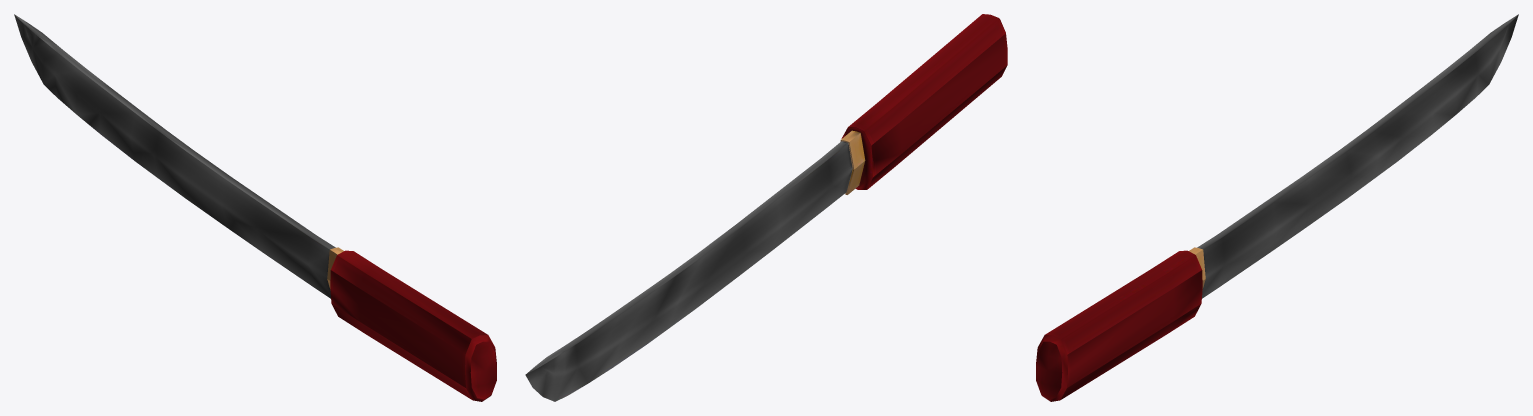
The model's file is Tanto.gltf.
The picture shows the model from 3 angles, left to right: view 1: azimuth 30°, elevation 25°; view 2: azimuth 150°, elevation 25°; view 3: azimuth 330°, elevation 25°; orthographic projection.
Visible parts, largest first — view 1: Tanto_Model; view 2: Tanto_Model; view 3: Tanto_Model.
Part boxes in pixels (x1=…): Tanto_Model: x1=14, y1=14, x2=496, y2=401; Tanto_Model: x1=525, y1=14, x2=1007, y2=401; Tanto_Model: x1=1036, y1=14, x2=1518, y2=401.
Bounding box in the file's own units: 0.0251 × 0.0588 × 0.6386.
Materials: 1 (1 with a texture image).
